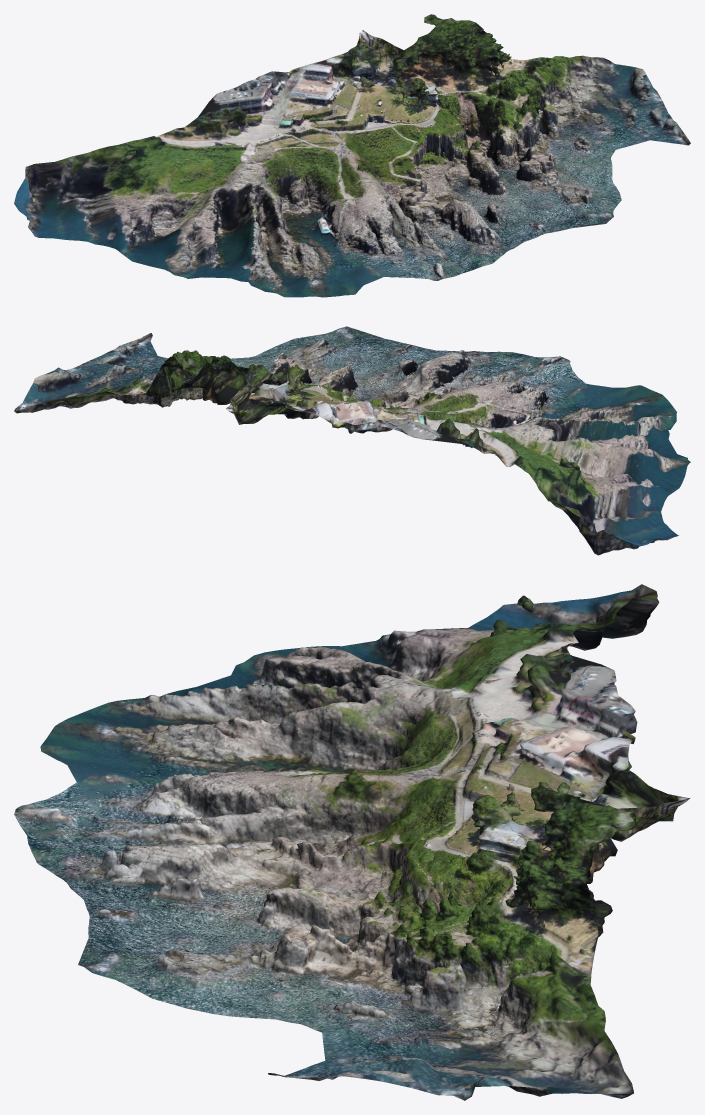
Rendered from tojinbo-south.glb.
The picture shows the model from 3 angles, top to bottom: view 1: azimuth 30°, elevation 25°; view 2: azimuth 150°, elevation 25°; view 3: azimuth 270°, elevation 25°; orthographic projection. The views are drawn at different scales.
Visible parts, largest first — view 1: baked_mesh; view 2: baked_mesh; view 3: baked_mesh.
Part boxes in pixels (x1,y1,x2,y2): baked_mesh: [14, 14, 690, 297]; baked_mesh: [14, 326, 690, 555]; baked_mesh: [14, 584, 689, 1100].
Bounding box in the file's own units: 2.95 × 0.437 × 1.69.
1 material, 1 textured.
